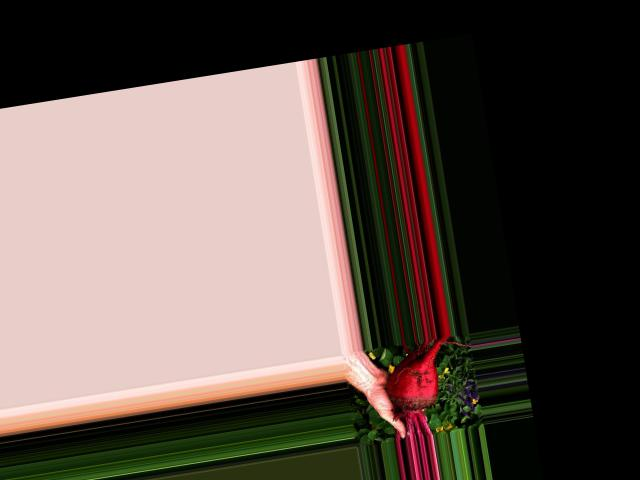beet: (380, 335, 464, 440)
